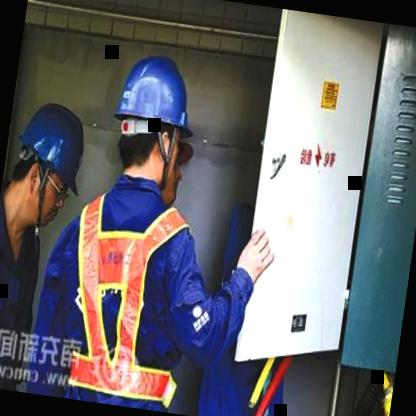helmet: (97, 35, 205, 198), (0, 86, 92, 233)
